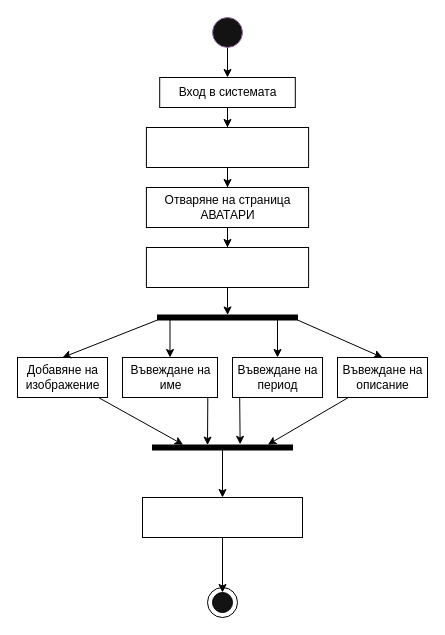
Image size: 445x635. Some labels were removed from this diagram. Each missing label, with the centre of its shape:
"Отваряне на страница за СЪЗДАВАНЕ НА АВАТАР" goes at (x=227, y=267).
"Отваряне на страница ПРОФИЛ" goes at (x=227, y=147).
"Създаване на АВАТАР" goes at (x=222, y=517).
